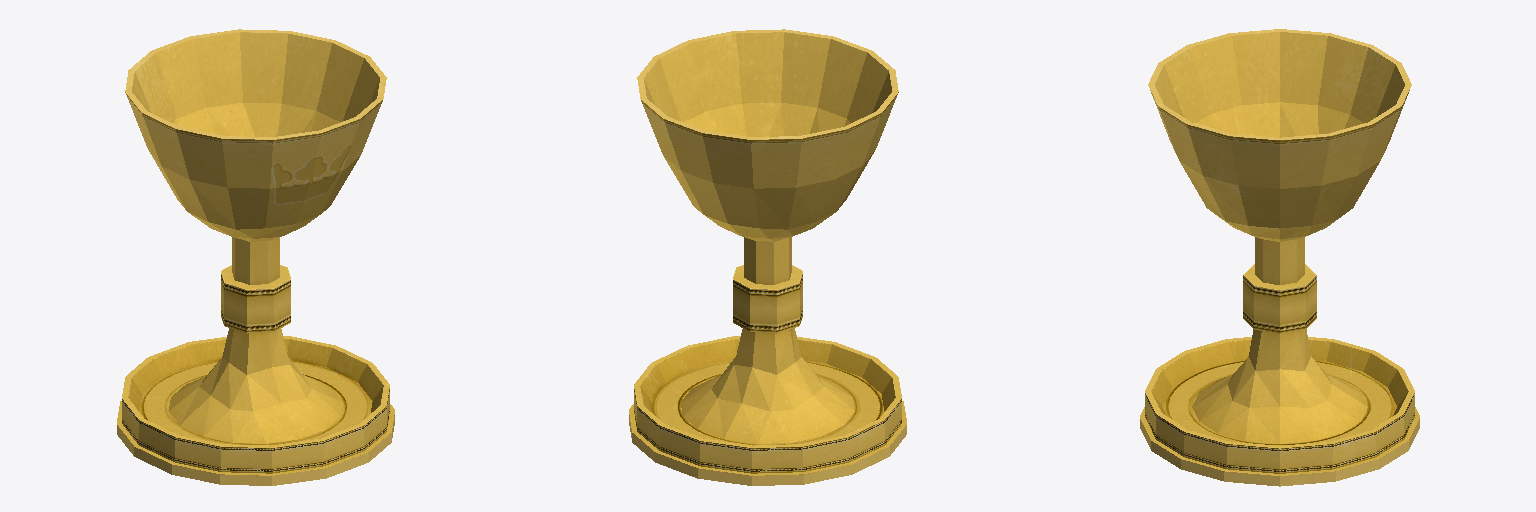
3 renders of one model, left to right at view 1: azimuth 30°, elevation 25°; view 2: azimuth 150°, elevation 25°; view 3: azimuth 270°, elevation 25°, orthographic.
Parts seen in each view (by area): view 1: Chalice; view 2: Chalice; view 3: Chalice.
Boxes of the visible parts, x1,y1,x2,y2 form: Chalice: [117, 29, 394, 485]; Chalice: [629, 29, 906, 485]; Chalice: [1140, 29, 1419, 486].
Bounding box in the file's own units: 3.45 × 4.64 × 3.45.
1 materials, 1 textured.